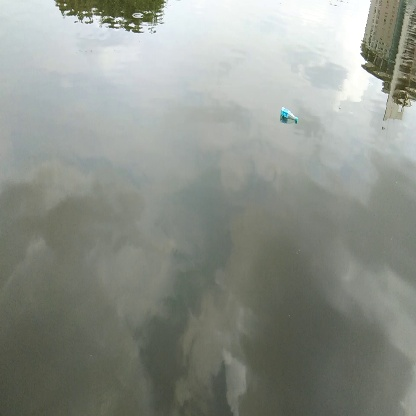bottle: (276, 104, 308, 129)
